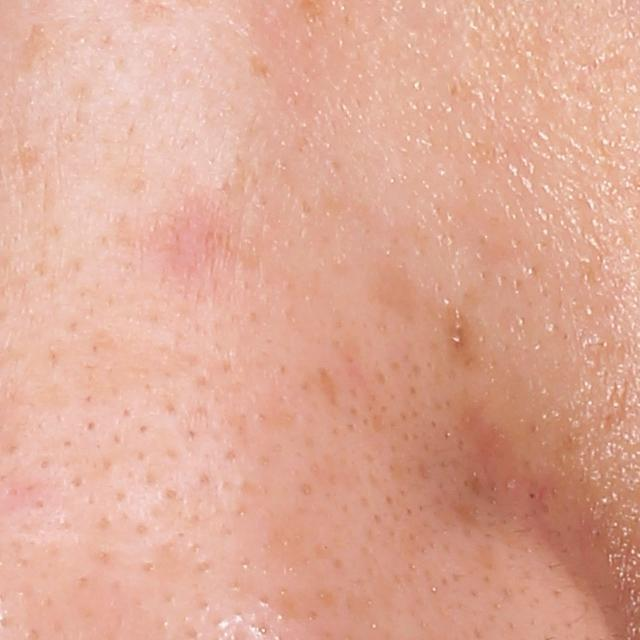melasma: (440, 293, 484, 361), (10, 18, 56, 80), (247, 52, 275, 82)
